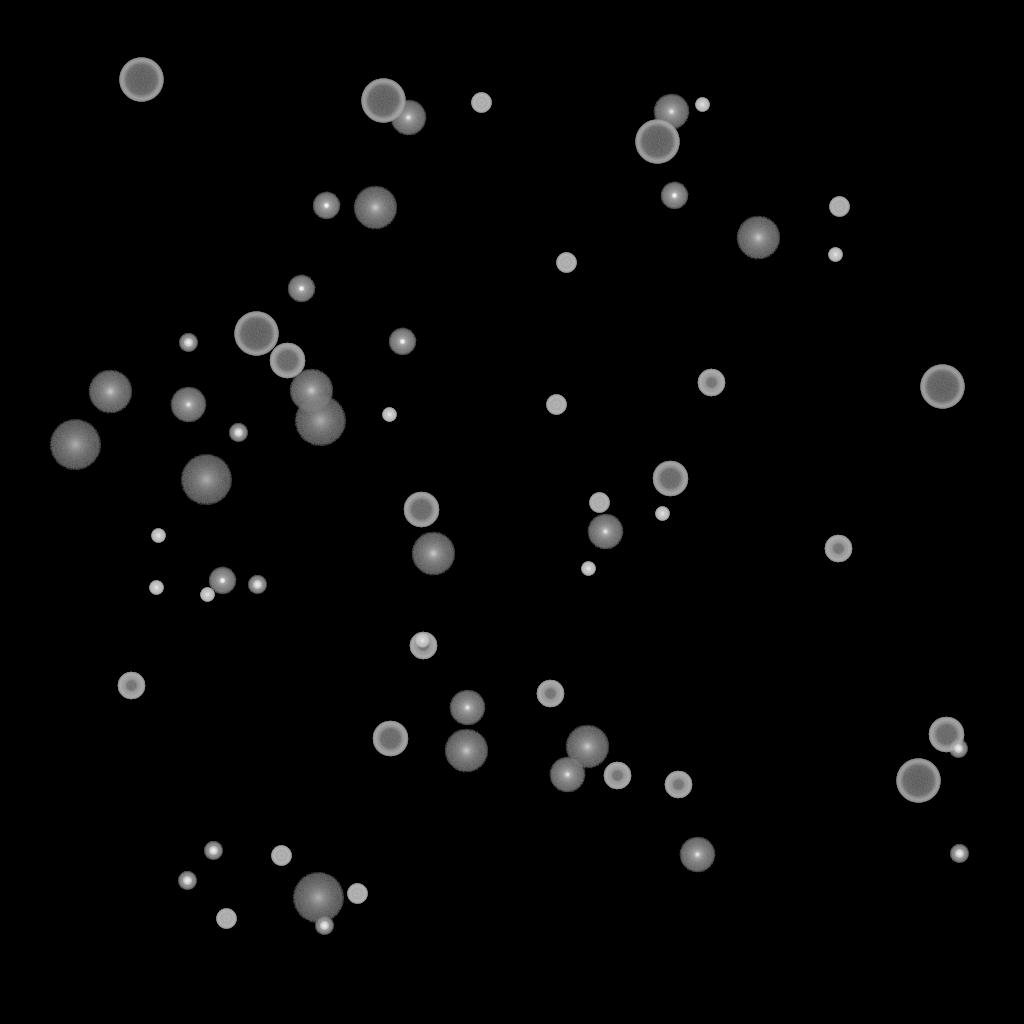depth:-10: (388, 328, 416, 356), (208, 567, 236, 595), (312, 192, 340, 220), (287, 275, 315, 303), (660, 182, 688, 210)
depth:-20: (179, 334, 197, 352), (229, 424, 247, 442), (949, 740, 967, 758), (178, 872, 196, 890), (950, 845, 968, 863), (315, 917, 333, 935), (204, 842, 222, 860), (248, 576, 266, 594)
depth:-30: (695, 98, 709, 112), (581, 562, 595, 576), (149, 581, 163, 595), (200, 588, 214, 602), (655, 507, 669, 521), (415, 634, 429, 648), (151, 529, 165, 543), (828, 248, 842, 262), (382, 408, 396, 422)
depth:-40: (271, 846, 291, 866), (589, 493, 609, 513), (556, 253, 576, 273), (471, 93, 491, 113), (829, 197, 849, 217), (216, 909, 236, 929), (347, 884, 367, 904), (546, 395, 566, 415)
depth:-50: (664, 771, 692, 799), (824, 535, 852, 563), (409, 632, 437, 660), (117, 672, 145, 700), (697, 369, 725, 397), (536, 680, 564, 708), (603, 762, 631, 790)
depth:-60: (372, 721, 408, 757), (269, 343, 305, 379), (403, 492, 439, 528), (652, 461, 688, 497), (928, 717, 964, 753)
depth:-70: (234, 312, 278, 356), (361, 79, 405, 123), (896, 759, 940, 803), (635, 120, 679, 164), (119, 58, 163, 102), (920, 365, 964, 409)
depth:0: (549, 757, 585, 793), (587, 514, 623, 550), (653, 94, 689, 130), (449, 690, 485, 726), (170, 387, 206, 423), (679, 837, 715, 873), (390, 100, 426, 136)
depth:10: (289, 369, 333, 413), (353, 186, 397, 230), (411, 532, 455, 576), (88, 370, 132, 414), (444, 729, 488, 773), (736, 216, 780, 260), (565, 725, 609, 769)
depth:20: (292, 873, 344, 923), (180, 455, 232, 505), (49, 420, 101, 470), (294, 396, 346, 446)
